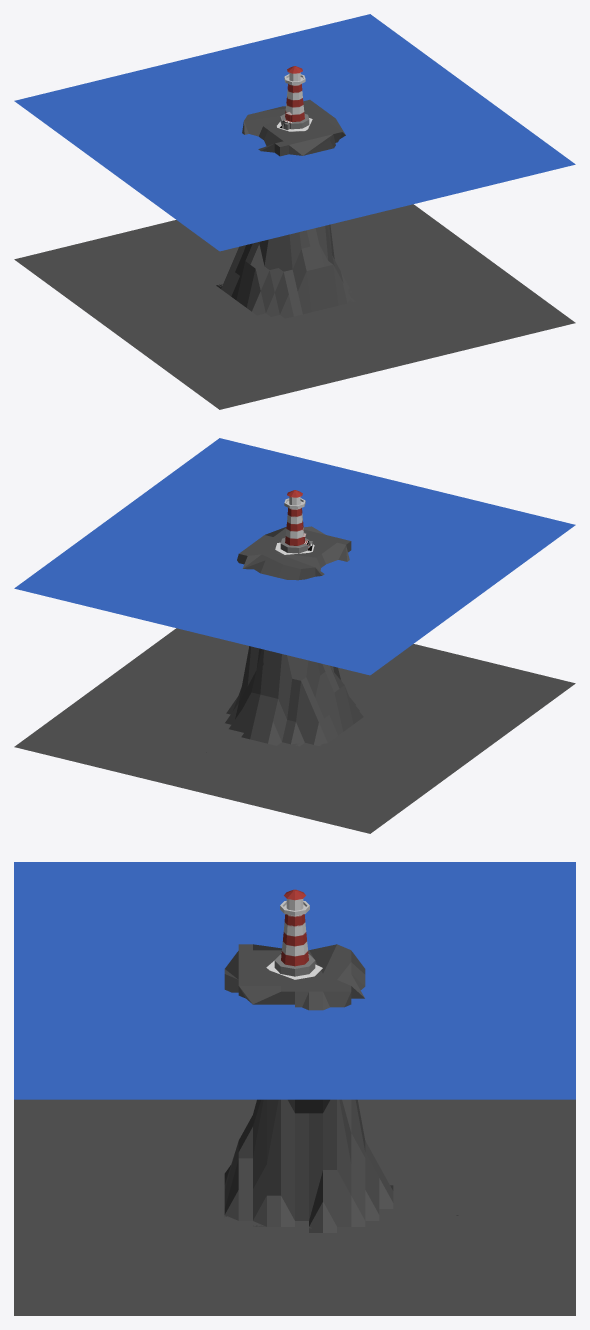
The model's file is lighthouse_site.glb.
The picture shows the model from 3 angles, top to bottom: view 1: azimuth 30°, elevation 25°; view 2: azimuth 150°, elevation 25°; view 3: azimuth 270°, elevation 25°; orthographic projection. The views are drawn at different scales.
Visible parts, largest first — view 1: Plane.002, Plane.003, Plane.001, lighthouse; view 2: Plane.002, Plane.003, Plane.001, lighthouse; view 3: Plane.002, Plane.003, Plane.001, lighthouse.
Boxes of the visible parts, left/top/right/bottom form: Plane.002: left=14, top=14, right=575, bottom=251; Plane.003: left=14, top=204, right=575, bottom=409; Plane.001: left=206, top=99, right=371, bottom=321; lighthouse: left=280, top=66, right=309, bottom=130; Plane.002: left=14, top=438, right=575, bottom=675; Plane.003: left=14, top=628, right=575, bottom=833; Plane.001: left=207, top=526, right=373, bottom=753; lighthouse: left=280, top=490, right=312, bottom=553; Plane.002: left=14, top=862, right=575, bottom=1099; Plane.003: left=14, top=1099, right=575, bottom=1315; Plane.001: left=224, top=944, right=393, bottom=1232; lighthouse: left=274, top=889, right=315, bottom=976.
Bounding box in the file's own units: 40 × 24.1 × 40.
4 materials, 2 textured.
